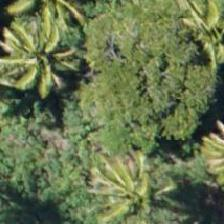coconut_tree: (0, 10, 86, 100), (92, 151, 182, 223), (172, 0, 223, 77)
